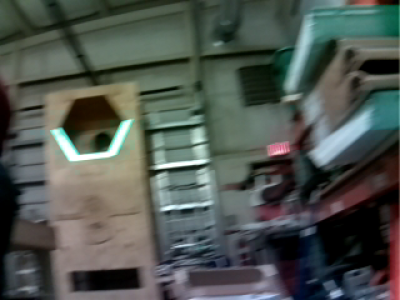target: (50, 119, 134, 162)
